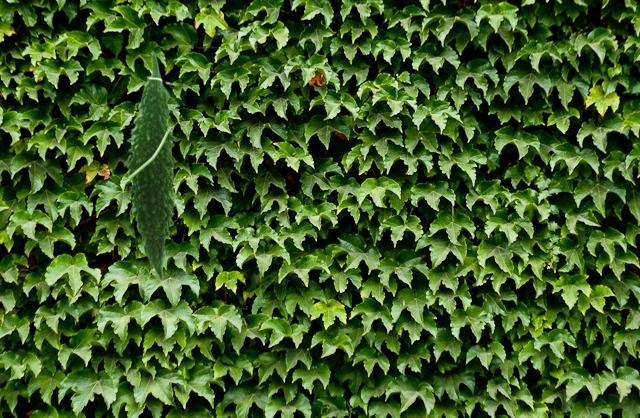ampalaya: (122, 50, 184, 281)
